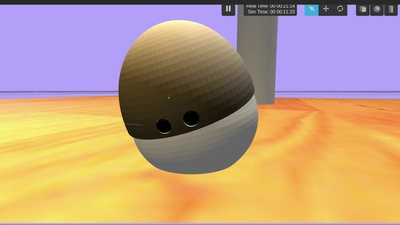mira_robot: (119, 20, 260, 175)
